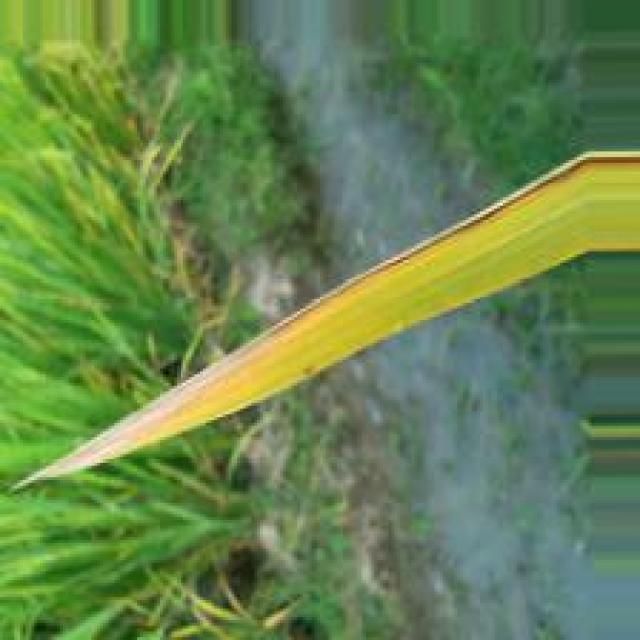Bacterial_Leaf_Blight: (41, 151, 640, 478), (301, 367, 318, 376)
